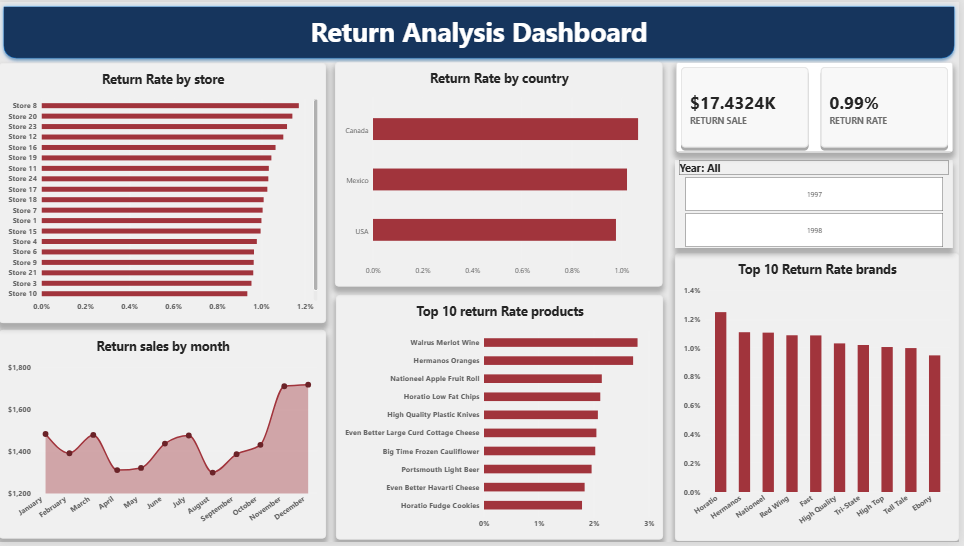

This screenshot's page, from the dashboard's own definition file:
{"tool":"powerbi","page":{"name":"Return Analysis Dashboard","canvas":[1920,1080],"ordinal":2},"visuals":[{"type":"cardVisual","fields":{"Data":["Transactions.RETURN SALE","Transactions.RETURN QUANTITY %"]},"box":[1353.1,120.9,554.3,181.4],"z":0},{"type":"shape","box":[0,0,1920,121.8],"z":1000},{"type":"columnChart","title":"Top 10 Return Rate brands","fields":{"Category":["Products.product_brand"],"Y":["Transactions.RETURN RATE"]},"box":[1352.3,501.7,567.7,576],"z":2000},{"type":"clusteredBarChart","title":"Return Rate by store","fields":{"Category":["Stores.store_name"],"Y":["Transactions.RETURN RATE"]},"box":[0,121.8,654.5,520.3],"z":3000},{"type":"barChart","title":"Return Rate by country","fields":{"Category":["Stores.store_country"],"Y":["Transactions.RETURN RATE"]},"box":[672.8,120.9,655.1,448.5],"z":4000},{"type":"lineChart","title":"Return sales by month","fields":{"Category":["Returns.return_date.Variation.Date Hierarchy.Month"],"Y":["Sum(Returns.return_sale)"]},"box":[0,656.5,654.5,417],"z":5000},{"type":"slicer","fields":{"Values":["Returns.return_date.Variation.Date Hierarchy.Year"]},"box":[1352.9,315.5,555.5,176.1],"z":6000},{"type":"barChart","title":"Top 10 return Rate products","fields":{"Category":["Products.product_name"],"Y":["Transactions.RETURN RATE"]},"box":[673,586.3,654.5,489.3],"z":7000}]}

Visuals, with their boxes in screenshot pixels (x1, y1, x2, y2), scaled from the page's 1920x1080 canvas onto the 964x546 screenshot:
cardVisual - Transactions.RETURN SALE x Transactions.RETURN QUANTITY %: left=679, top=61, right=958, bottom=153
shape: left=0, top=0, right=963, bottom=62
"Top 10 Return Rate brands" columnChart: left=679, top=254, right=963, bottom=545
"Return Rate by store" clusteredBarChart: left=0, top=62, right=329, bottom=325
"Return Rate by country" barChart: left=338, top=61, right=667, bottom=288
"Return sales by month" lineChart: left=0, top=332, right=329, bottom=543
slicer - Returns.return_date.Variation.Date Hierarchy.Year: left=679, top=160, right=958, bottom=249
"Top 10 return Rate products" barChart: left=338, top=296, right=667, bottom=544
